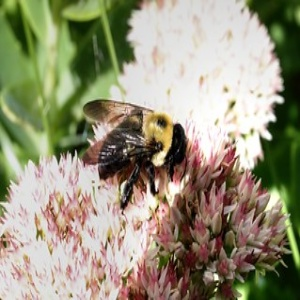bee: (77, 99, 186, 215)
